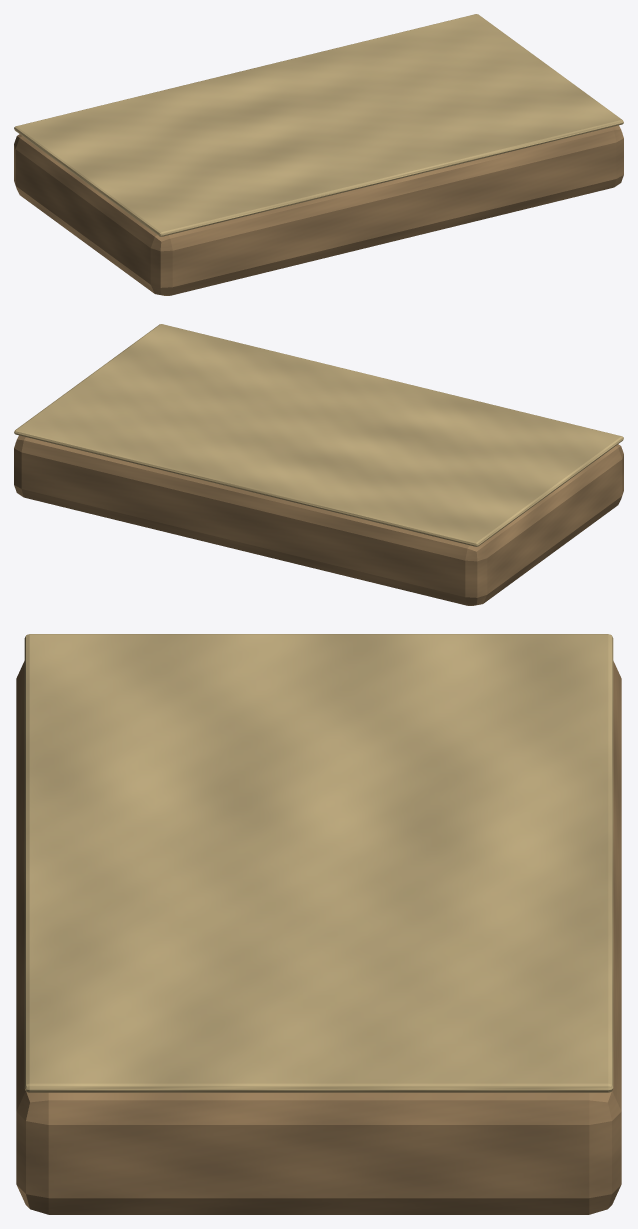
File: Harbor_Quay.fbx
The picture shows the model from 3 angles, top to bottom: view 1: azimuth 30°, elevation 25°; view 2: azimuth 150°, elevation 25°; view 3: azimuth 270°, elevation 25°; orthographic projection. The views are drawn at different scales.
Parts seen in each view (by area): view 1: Harbor_Quay; view 2: Harbor_Quay; view 3: Harbor_Quay.
Boxes of the visible parts, box(x1,y1,x2,y2) form: Harbor_Quay: box(14, 14, 623, 295); Harbor_Quay: box(14, 324, 623, 605); Harbor_Quay: box(16, 634, 621, 1214).
Bounding box in the file's own units: 2700 × 1500 × 378.
